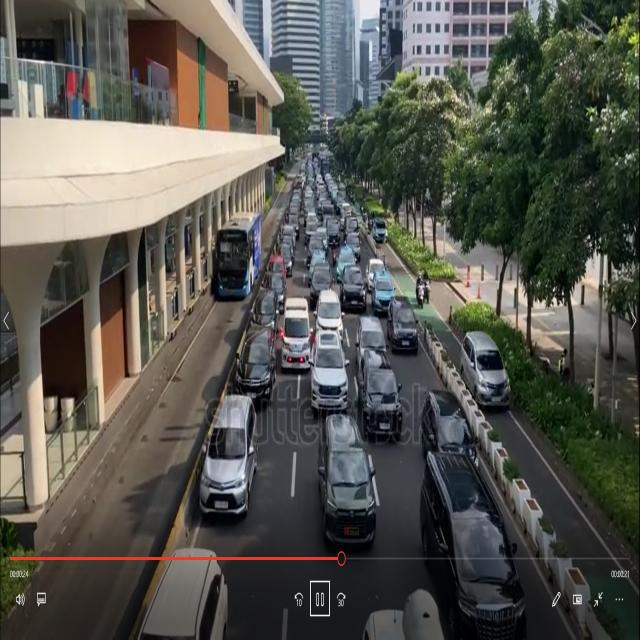Ambulance: (283, 288, 319, 385)
